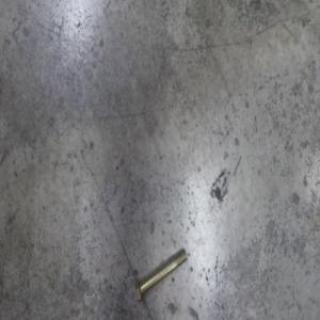Bolttrack_idkeyframe: (133, 246, 186, 307)
